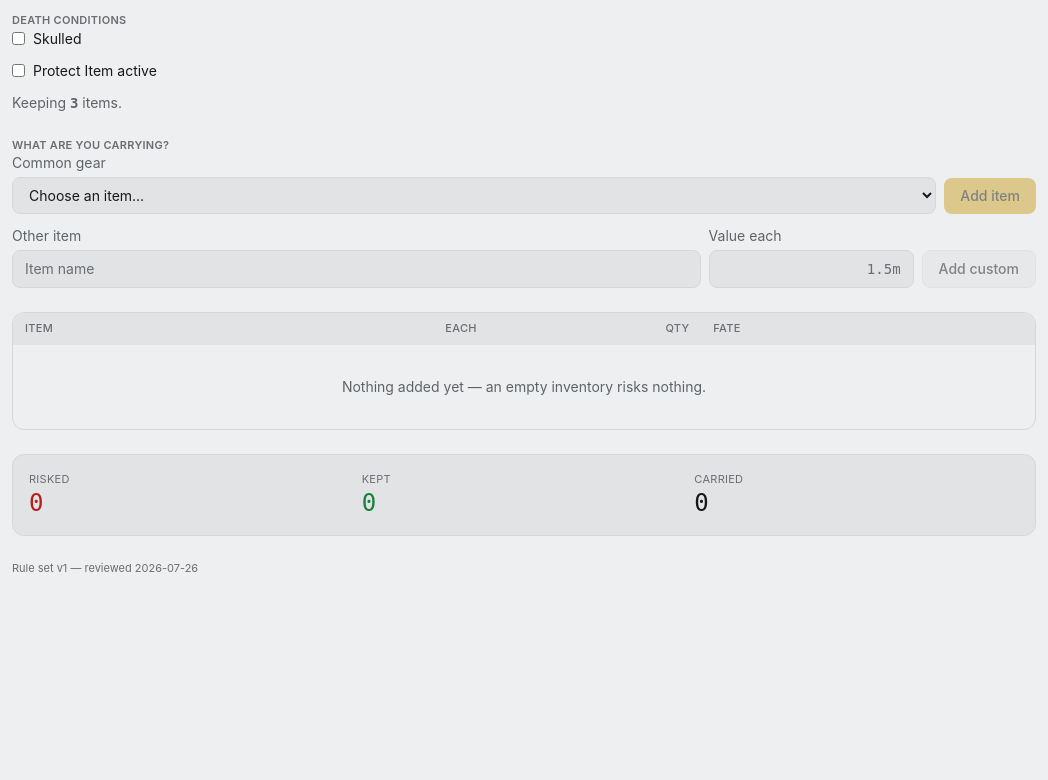
Test case: DeathRiskCalculator › removes an item
This screenshot has width=1048, height=780.
Select "Twisted bow" in the dropdown labelled "Common gear" at (474, 196), box [12,177,936,214]
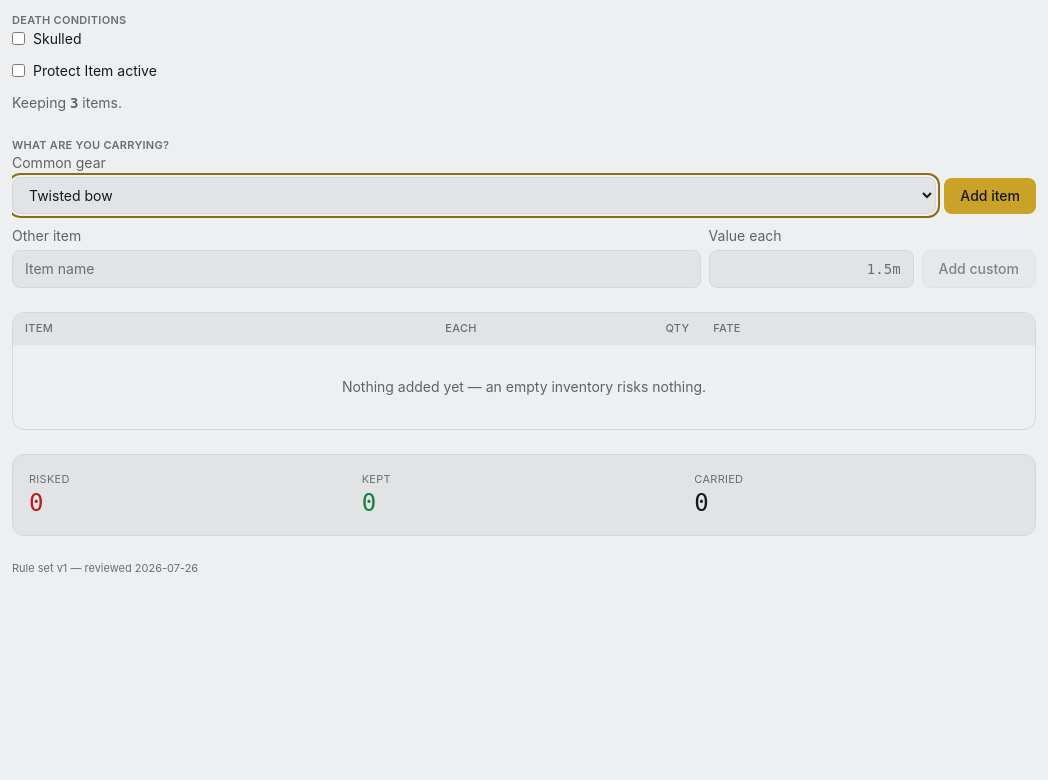
Click the button "Add item" at (990, 196), box [944,178,1036,214]
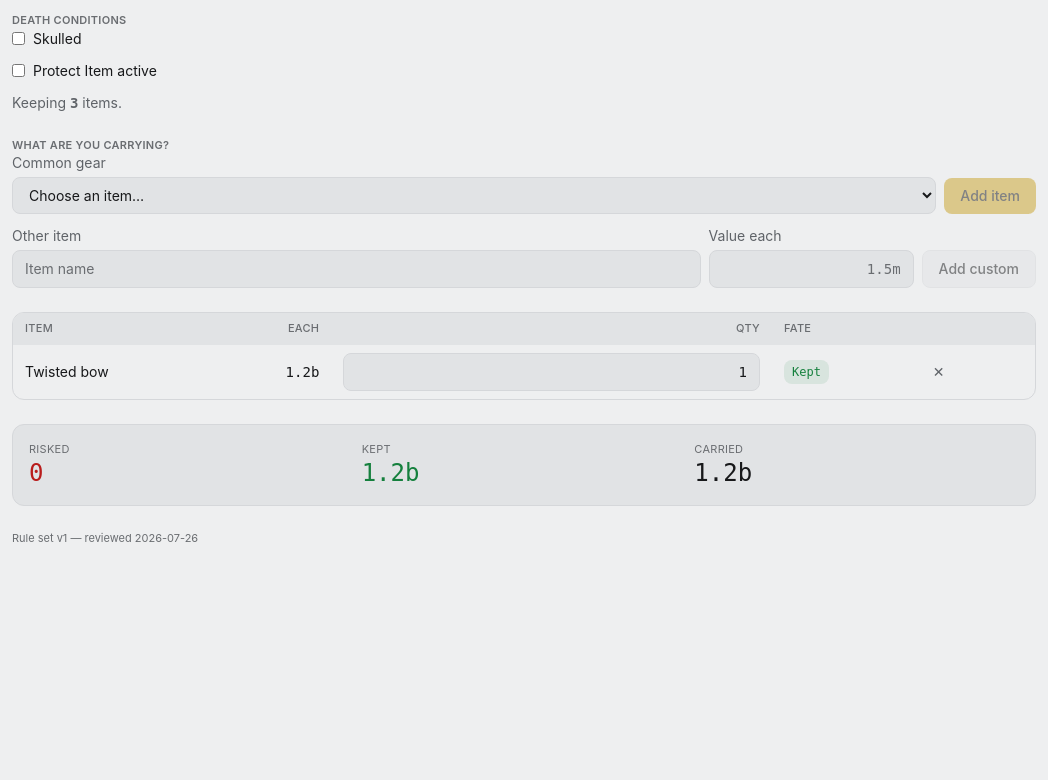
Click the button named "Remove Twisted bow" at (938, 372), box [917,354,960,390]
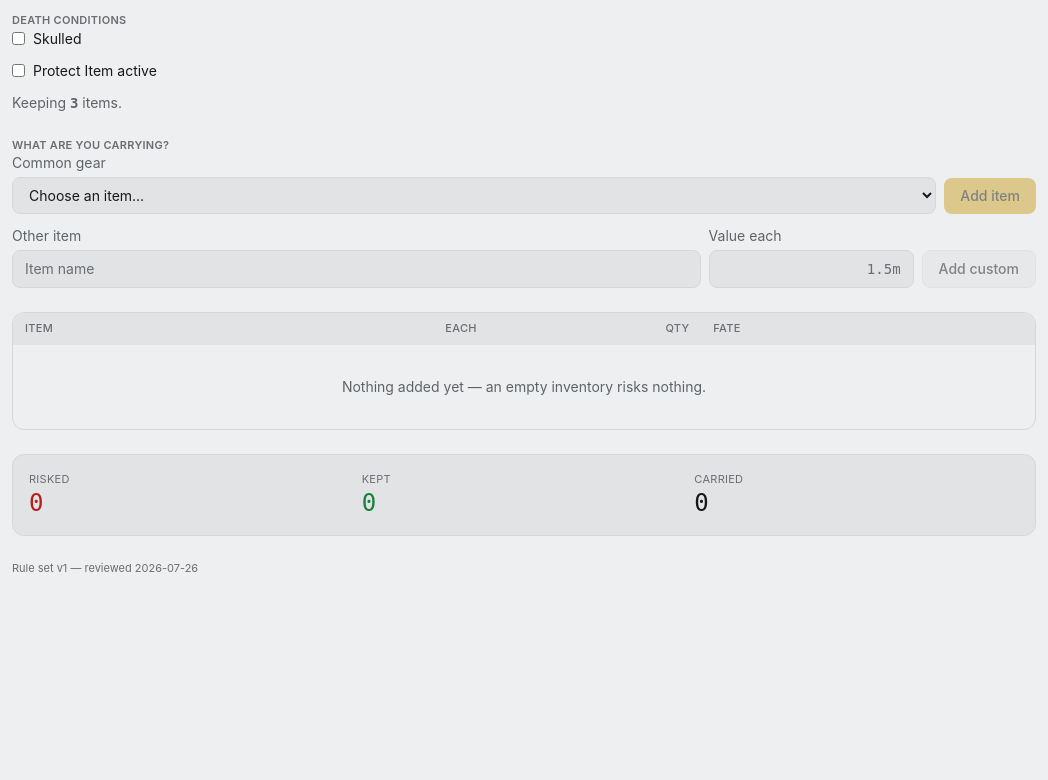
Check: the text "Nothing added yet — an empty inventory risks nothing." is shown, box [13,345,1035,429]
